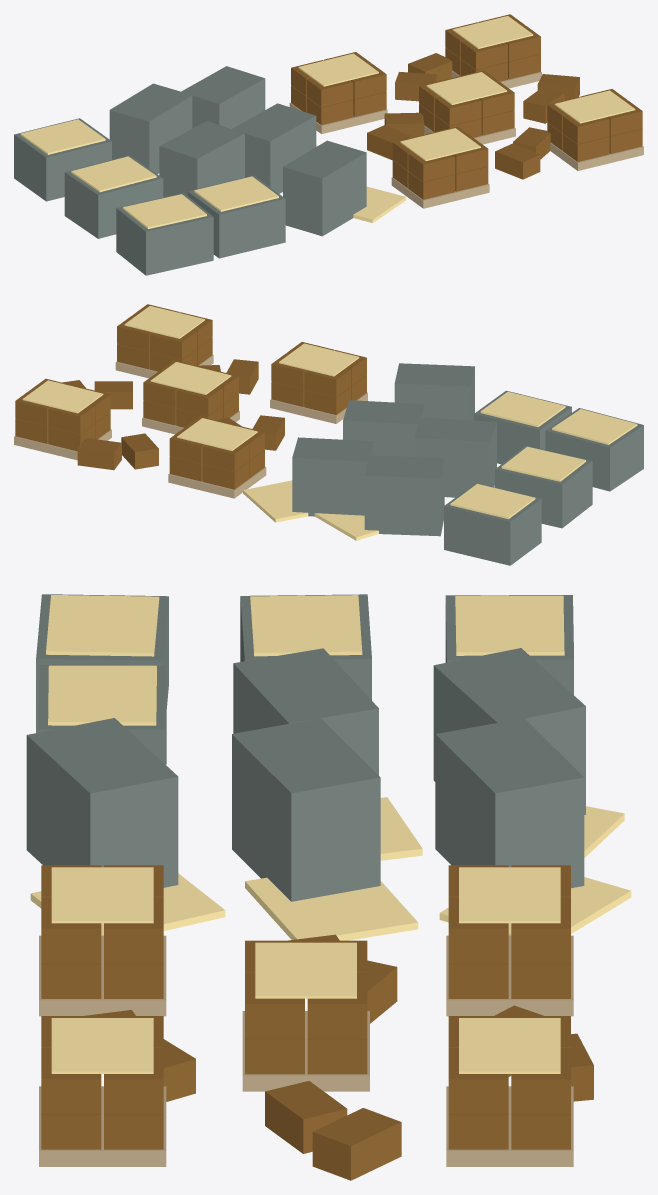
The model's file is SM_AcopioViveres_v3_Saqueado_LOD0.fbx.
3 views of the same model, one above another, from view 1: azimuth 30°, elevation 25°; view 2: azimuth 150°, elevation 25°; view 3: azimuth 270°, elevation 25° (orthographic). The views are drawn at different scales.
Visible parts, largest first — view 1: SM_acopio_viveres_v3_LOD0; view 2: SM_acopio_viveres_v3_LOD0; view 3: SM_acopio_viveres_v3_LOD0.
Boxes of the visible parts, x1=… form: SM_acopio_viveres_v3_LOD0: x1=14, y1=14, x2=643, y2=275; SM_acopio_viveres_v3_LOD0: x1=14, y1=304, x2=643, y2=565; SM_acopio_viveres_v3_LOD0: x1=26, y1=594, x2=631, y2=1180.
Bounding box in the file's own units: 9.28 × 1 × 4.75.
